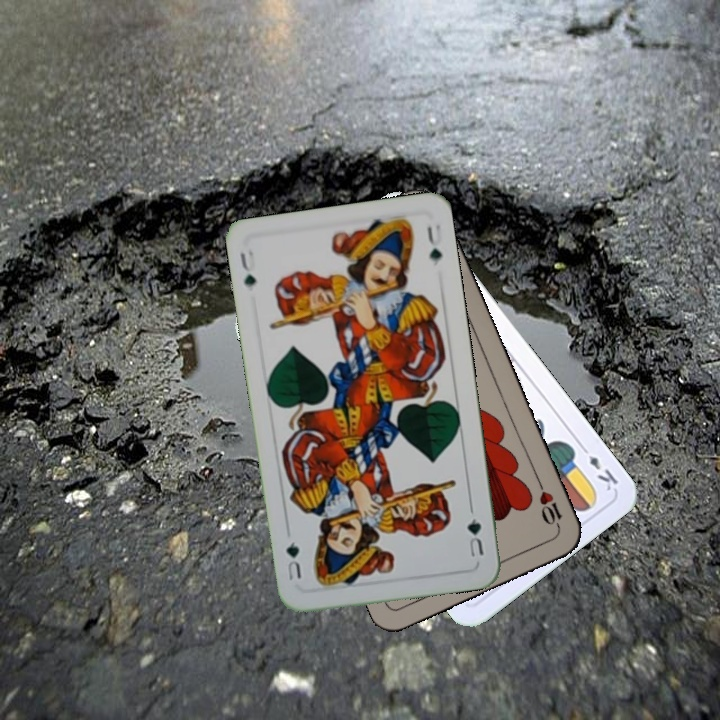EK: (576, 440, 621, 494)
GU: (462, 514, 487, 560), (236, 246, 259, 290)
H10: (533, 476, 565, 533)
